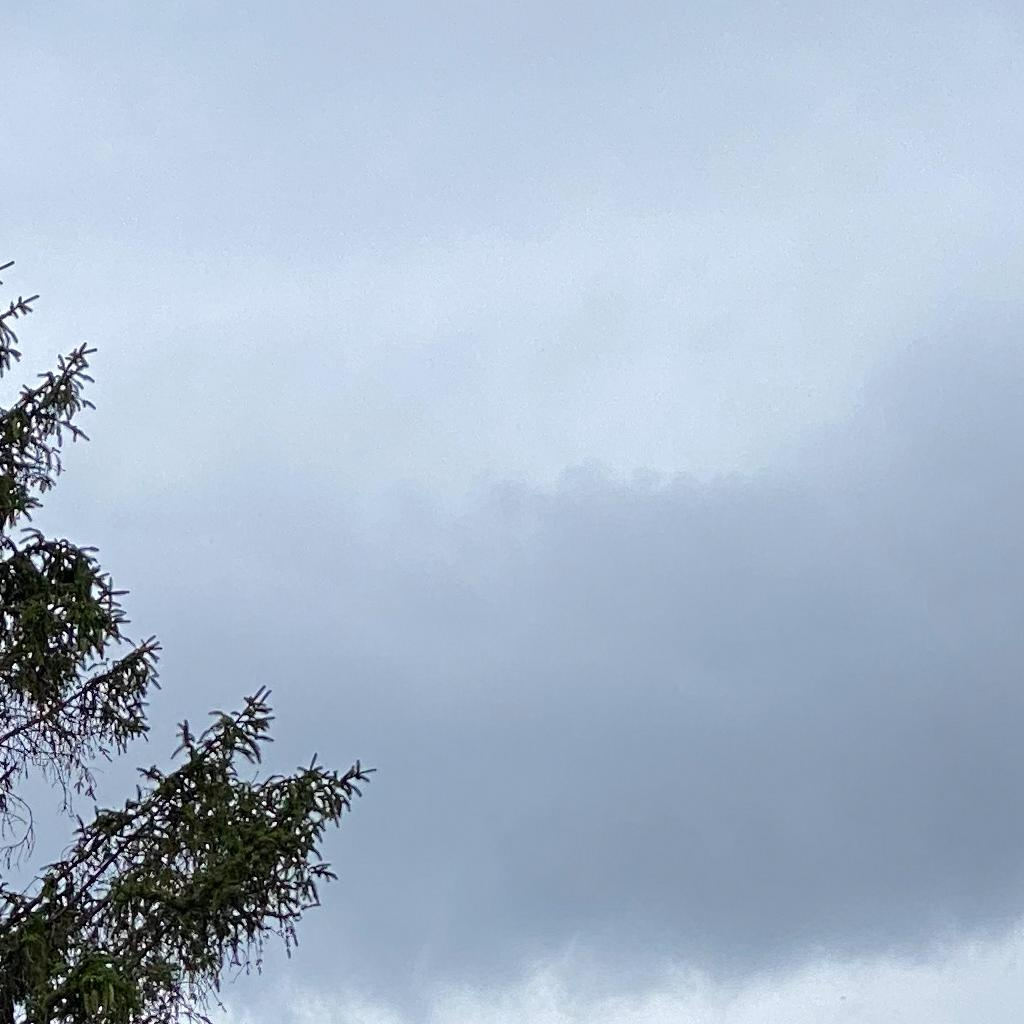tree: (1, 260, 378, 1023)
